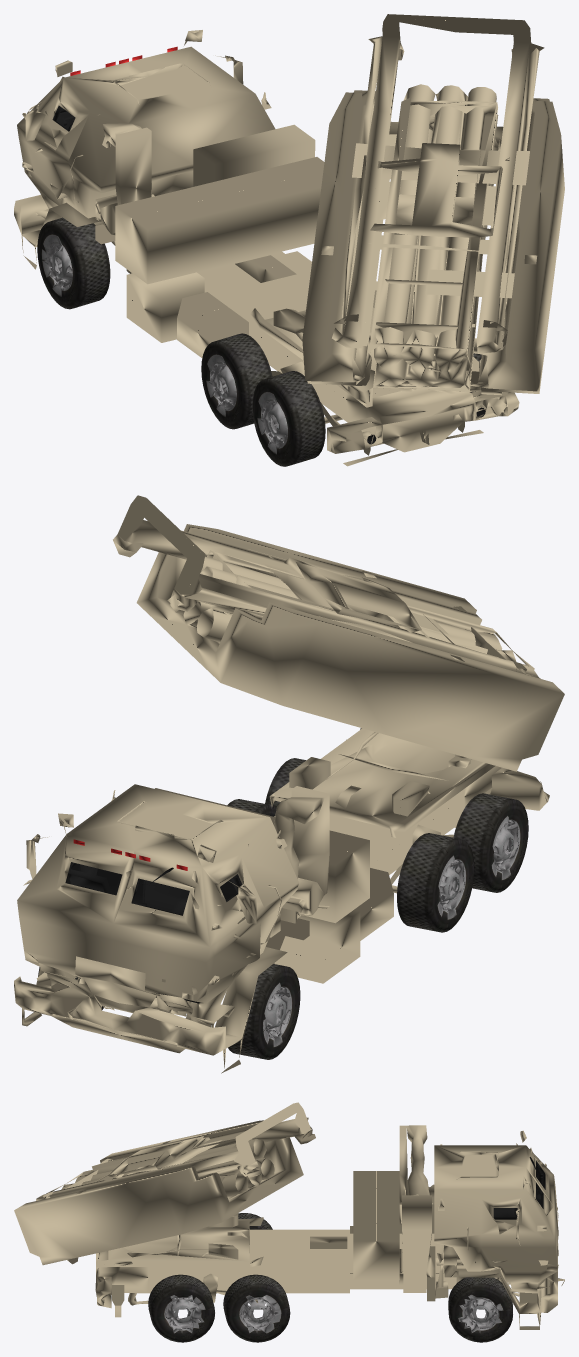
File: elite_tactical_missile_himars.glb
3 renders of one model, top to bottom at view 1: azimuth 30°, elevation 25°; view 2: azimuth 150°, elevation 25°; view 3: azimuth 270°, elevation 25°, orthographic. The views are drawn at different scales.
Visible parts, largest first — view 1: Object_12, Object_8; view 2: Object_12, Object_8, Object_2; view 3: Object_12, Object_8, Object_2.
Boxes of the visible parts, box(x1,y1,x2,y2) form: Object_12: box(14, 14, 564, 466); Object_8: box(37, 217, 481, 466); Object_12: box(14, 495, 564, 1073); Object_8: box(38, 758, 528, 1059); Object_2: box(65, 862, 242, 1003); Object_12: box(14, 1102, 564, 1329); Object_8: box(148, 1213, 512, 1342); Object_2: box(493, 1157, 545, 1219).
Size of the model in its own units: 964 by 945 by 1957.
5 materials, 1 textured.
